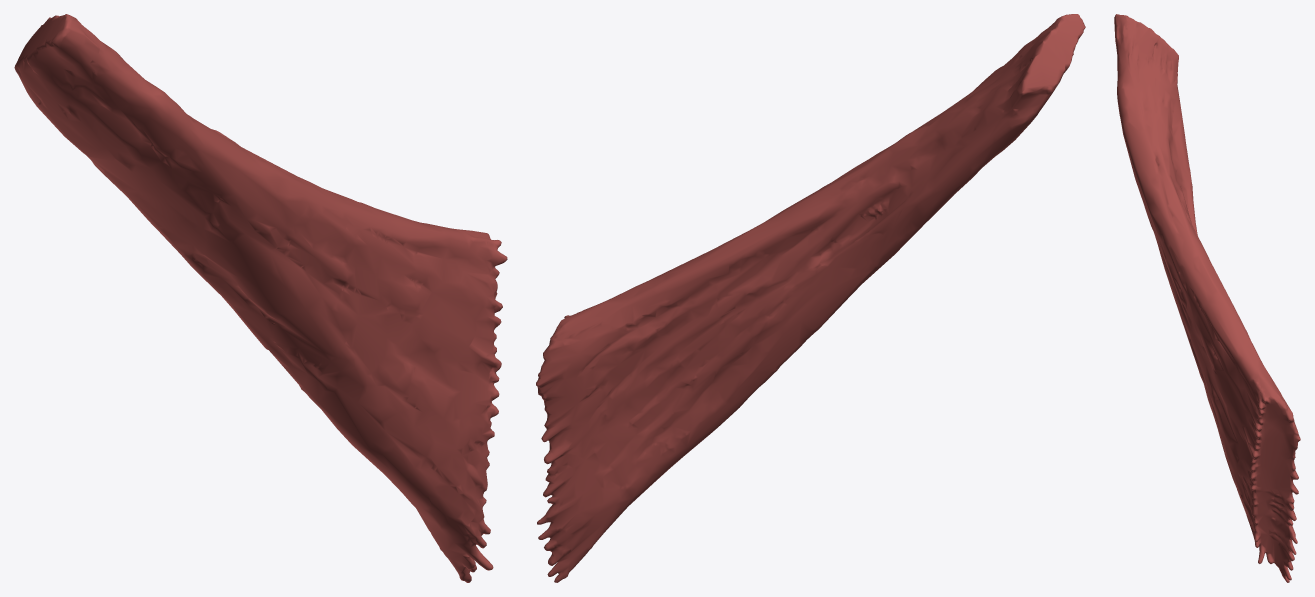
File: FMA43887.glb
3 views of the same model, side by side, from view 1: azimuth 30°, elevation 25°; view 2: azimuth 150°, elevation 25°; view 3: azimuth 270°, elevation 25° (orthographic). The views are drawn at different scales.
Parts seen in each view (by area): view 1: FMA43887; view 2: FMA43887; view 3: FMA43887.
Boxes of the visible parts, left/top/right/bottom form: FMA43887: left=14, top=14, right=507, bottom=582; FMA43887: left=536, top=14, right=1085, bottom=582; FMA43887: left=1114, top=14, right=1300, bottom=582.
Bounding box in the file's own units: 0.0776 × 0.101 × 0.0401.
